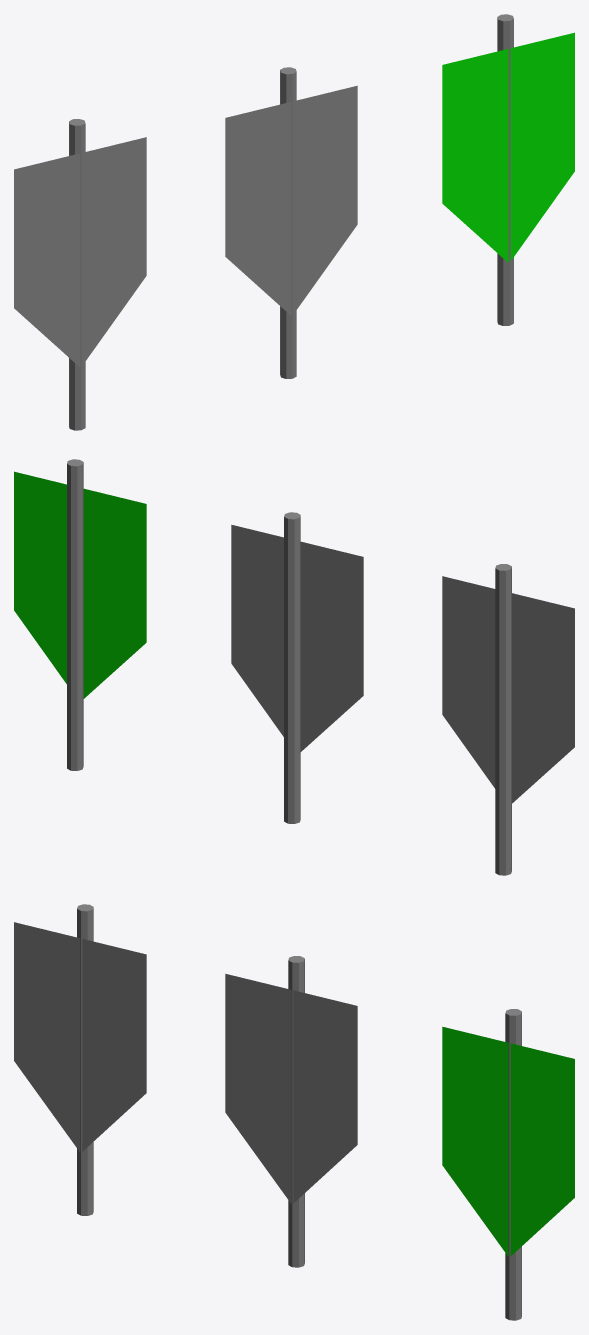
The model's file is bandeira.fbx.
The picture shows the model from 3 angles, top to bottom: view 1: azimuth 30°, elevation 25°; view 2: azimuth 150°, elevation 25°; view 3: azimuth 330°, elevation 25°; orthographic projection.
Visible parts, largest first — view 1: TORRECIRCULAR.008; view 2: TORRECIRCULAR.008; view 3: TORRECIRCULAR.008.
Boxes of the visible parts, left/top/right/bottom form: TORRECIRCULAR.008: left=14, top=14, right=574, bottom=430; TORRECIRCULAR.008: left=14, top=459, right=574, bottom=875; TORRECIRCULAR.008: left=14, top=904, right=574, bottom=1320.
Size of the model in its own units: 826 by 429 by 22.
